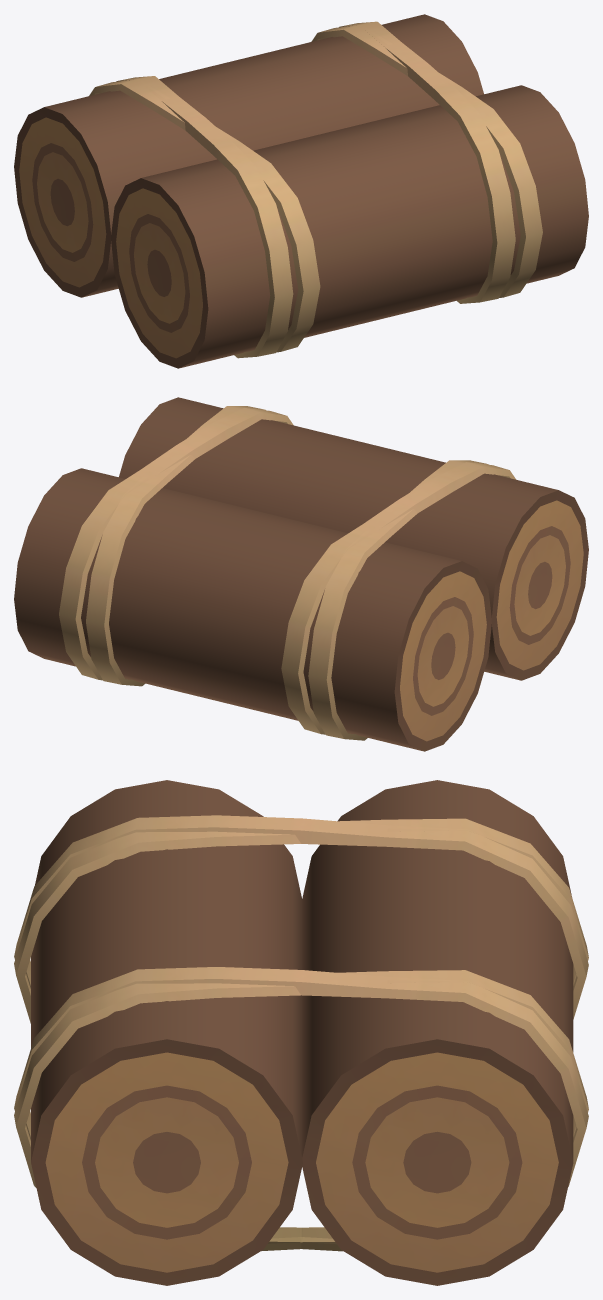
Rendered from w raft s.fbx.
3 renders of one model, top to bottom at view 1: azimuth 30°, elevation 25°; view 2: azimuth 150°, elevation 25°; view 3: azimuth 270°, elevation 25°, orthographic. The views are drawn at different scales.
Parts seen in each view (by area): view 1: short_wooden_raft; view 2: short_wooden_raft; view 3: short_wooden_raft.
Boxes of the visible parts, box(x1,y1,x2,y2) form: short_wooden_raft: box(14, 14, 588, 368); short_wooden_raft: box(14, 397, 588, 751); short_wooden_raft: box(14, 780, 588, 1285).
Size of the model in its own units: 7.99 by 3.87 by 7.49.
Materials: 1 (1 with a texture image).
